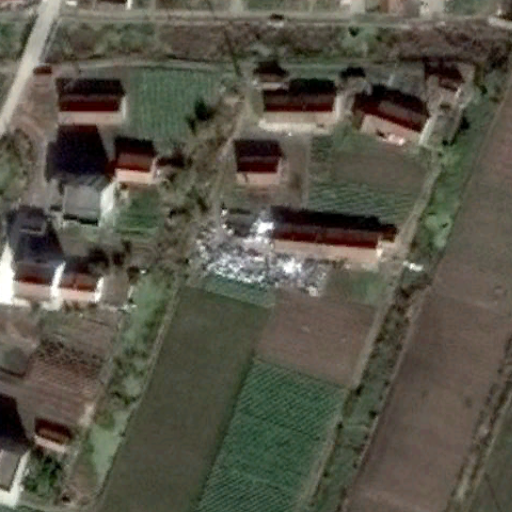msw: (200, 228, 302, 292)
